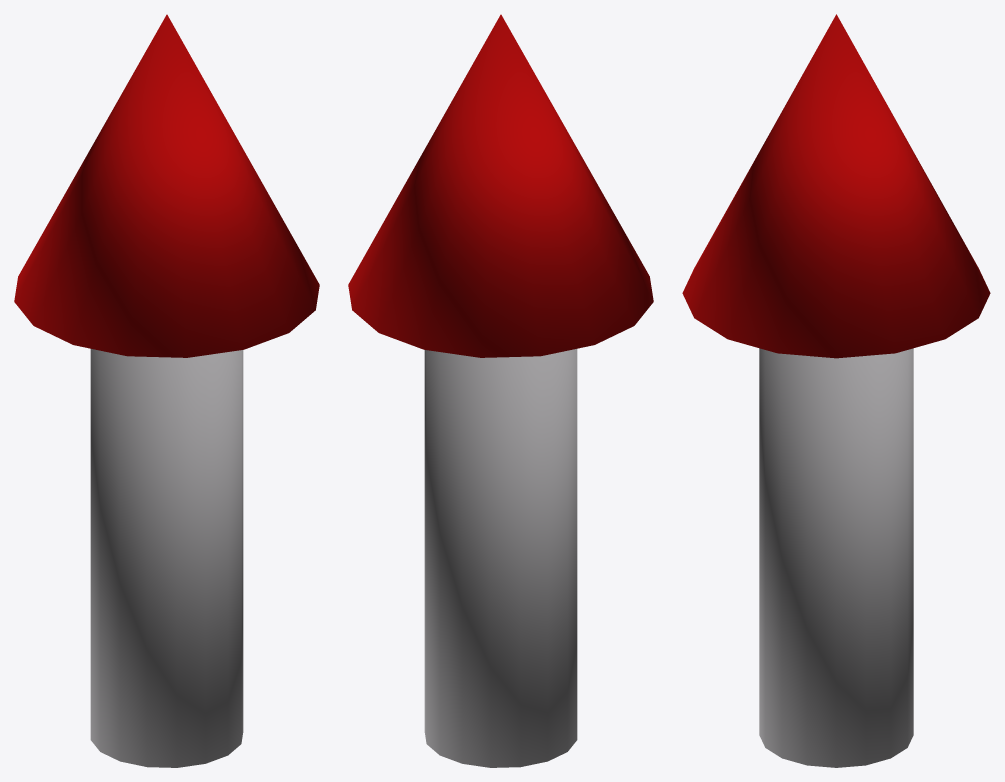
File: compass2.fbx
The picture shows the model from 3 angles, left to right: view 1: azimuth 30°, elevation 25°; view 2: azimuth 150°, elevation 25°; view 3: azimuth 270°, elevation 25°; orthographic projection.
Visible parts, largest first — view 1: Circle_001, Circle; view 2: Circle_001, Circle; view 3: Circle_001, Circle.
Part boxes in pixels (bbox=[...]): Circle_001: bbox=[90, 349, 243, 767]; Circle: bbox=[14, 14, 319, 357]; Circle_001: bbox=[424, 349, 577, 767]; Circle: bbox=[348, 14, 653, 357]; Circle_001: bbox=[759, 348, 913, 767]; Circle: bbox=[682, 14, 990, 358].
Bounding box in the file's own units: 0.6 × 1.55 × 0.6.
